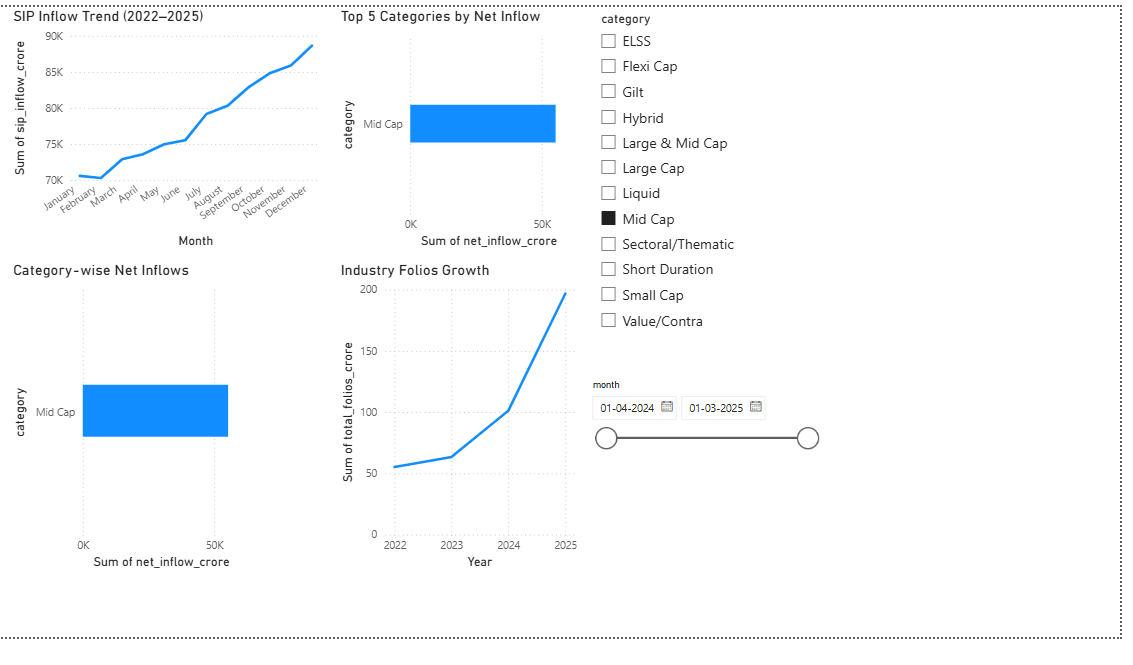

The page's visual inventory and layout, read from the dashboard file:
{"tool":"powerbi","page":{"name":"SIP & Market Trends","canvas":[1280,720],"ordinal":3},"visuals":[{"type":"lineChart","title":"SIP Inflow Trend (2022–2025)","fields":{"Category":["04_monthly_sip_inflows.month.Variation.Date Hierarchy.Month"],"Y":["Sum(04_monthly_sip_inflows.sip_inflow_crore)"]},"box":[10,0,361.4,280],"z":0},{"type":"clusteredBarChart","title":"Category-wise Net Inflows","fields":{"Category":["05_category_inflows.category"],"Y":["Sum(05_category_inflows.net_inflow_crore)"]},"box":[10,290,280,357.1],"z":1},{"type":"clusteredBarChart","title":"Top 5 Categories by Net Inflow","fields":{"Category":["05_category_inflows.category"],"Y":["Sum(05_category_inflows.net_inflow_crore)"]},"box":[384.3,0,280,280],"z":3},{"type":"lineChart","title":"Industry Folios Growth","fields":{"Category":["06_industry_folio_count.month.Variation.Date Hierarchy.Year","06_industry_folio_count.month.Variation.Date Hierarchy.Quarter","06_industry_folio_count.month.Variation.Date Hierarchy.Month","06_industry_folio_count.month.Variation.Date Hierarchy.Day"],"Y":["Sum(06_industry_folio_count.total_folios_crore)"]},"box":[384,290,280,357],"z":4},{"type":"slicer","fields":{"Values":["05_category_inflows.category"]},"box":[674.3,0,280,397.1],"z":5},{"type":"slicer","fields":{"Values":["05_category_inflows.month"]},"box":[664.3,420,280,147.1],"z":6}]}

Visuals, with their boxes on the page's 1280x720 design canvas (x1, y1, x2, y2). These are canvas units, not pixel positions in the 1133x665 screenshot, which may show the page scaled, cropped or inside an application window:
"SIP Inflow Trend (2022–2025)" lineChart: bbox=(10, 0, 371, 280)
"Category-wise Net Inflows" clusteredBarChart: bbox=(10, 290, 290, 647)
"Top 5 Categories by Net Inflow" clusteredBarChart: bbox=(384, 0, 664, 280)
"Industry Folios Growth" lineChart: bbox=(384, 290, 664, 647)
slicer - 05_category_inflows.category: bbox=(674, 0, 954, 397)
slicer - 05_category_inflows.month: bbox=(664, 420, 944, 567)
